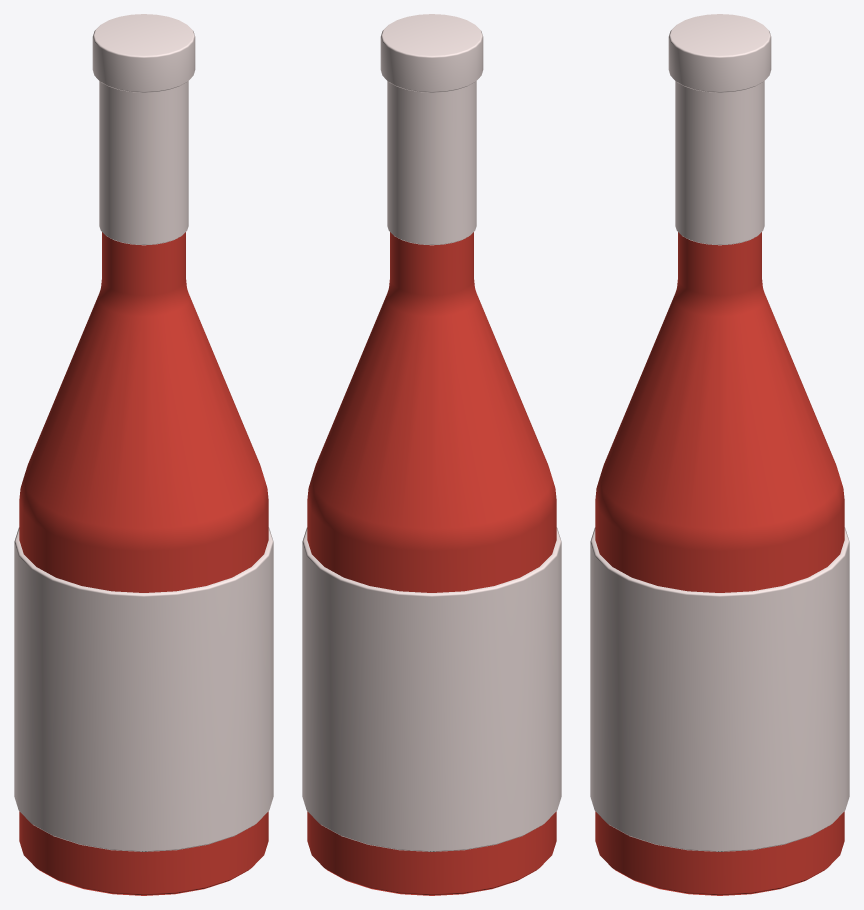
Rendered from Bottle_4.fbx.
3 renders of one model, left to right at view 1: azimuth 30°, elevation 25°; view 2: azimuth 150°, elevation 25°; view 3: azimuth 270°, elevation 25°, orthographic.
Parts seen in each view (by area): view 1: Bottle_4; view 2: Bottle_4; view 3: Bottle_4.
Boxes of the visible parts, x1,y1,x2,y2 form: Bottle_4: (14, 14, 273, 895); Bottle_4: (302, 14, 561, 895); Bottle_4: (590, 14, 849, 895).
Bounding box in the file's own units: 12.77 × 43.99 × 12.77.
